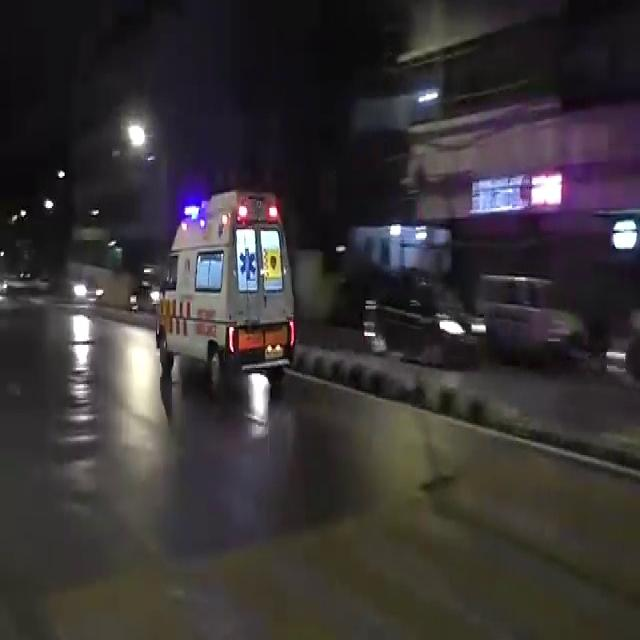ambulance: (160, 170, 292, 404)
